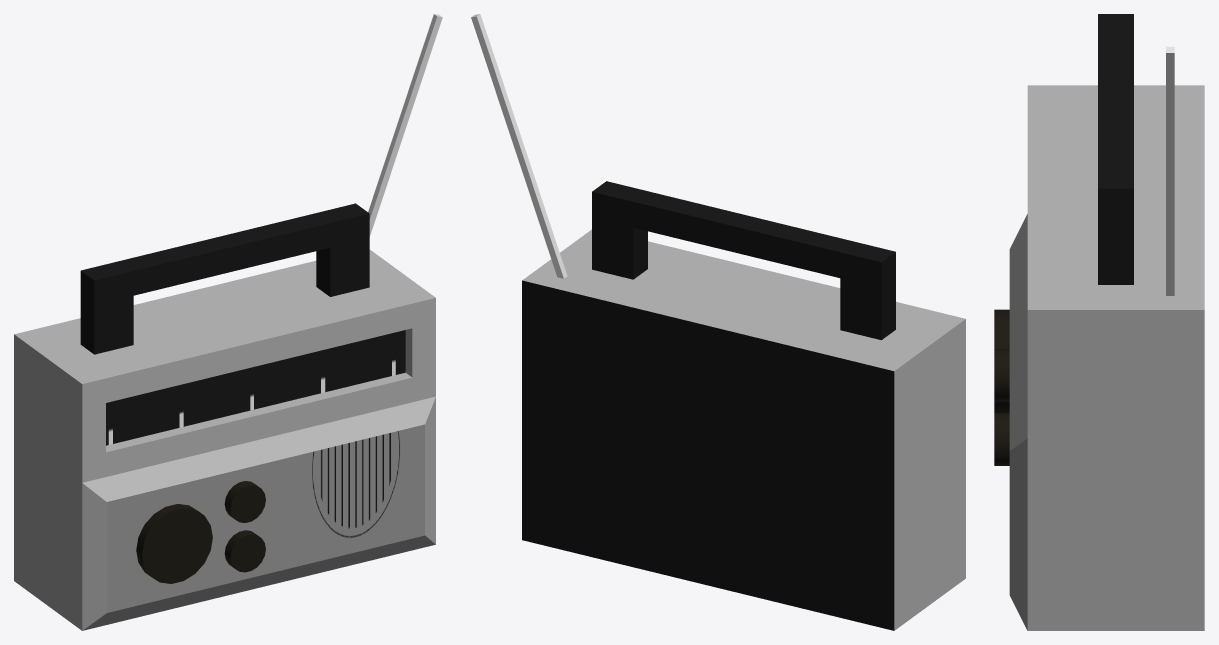
Rendered from Radio.fbx.
3 renders of one model, left to right at view 1: azimuth 30°, elevation 25°; view 2: azimuth 150°, elevation 25°; view 3: azimuth 270°, elevation 25°, orthographic. The views are drawn at different scales.
Visible parts, largest first — view 1: Radio, Dial001, Antenna, Dial003, Dial002; view 2: Radio, Antenna; view 3: Radio, Antenna, Dial003, Dial002, Dial001.
Part boxes in pixels (x1,y1,x2,y2): Radio: (14, 203, 435, 630); Dial001: (136, 504, 212, 583); Antenna: (368, 14, 442, 236); Dial003: (224, 481, 265, 522); Dial002: (224, 530, 265, 572); Radio: (522, 181, 965, 630); Antenna: (471, 14, 567, 278); Radio: (1009, 14, 1204, 630); Antenna: (1166, 46, 1174, 295); Dial003: (994, 349, 1009, 401); Dial002: (994, 413, 1009, 465); Dial001: (994, 309, 1009, 412).
Bounding box in the file's own units: 17.54 × 19.28 × 5.94.
6 materials, 2 textured.
